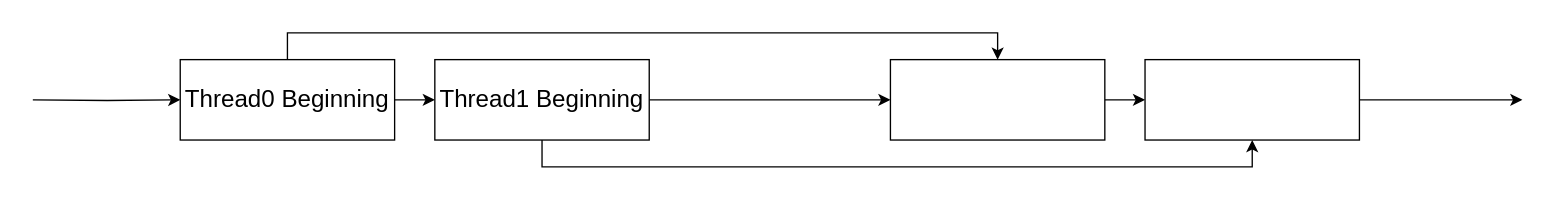
This 1557x201 diagram has some shape labels left out. The centre of each missing label's shape, as x and y in pixels:
"Thread0 Ending" goes at pixel 997 99.
"Thread1 Ending" goes at pixel 1251 99.
